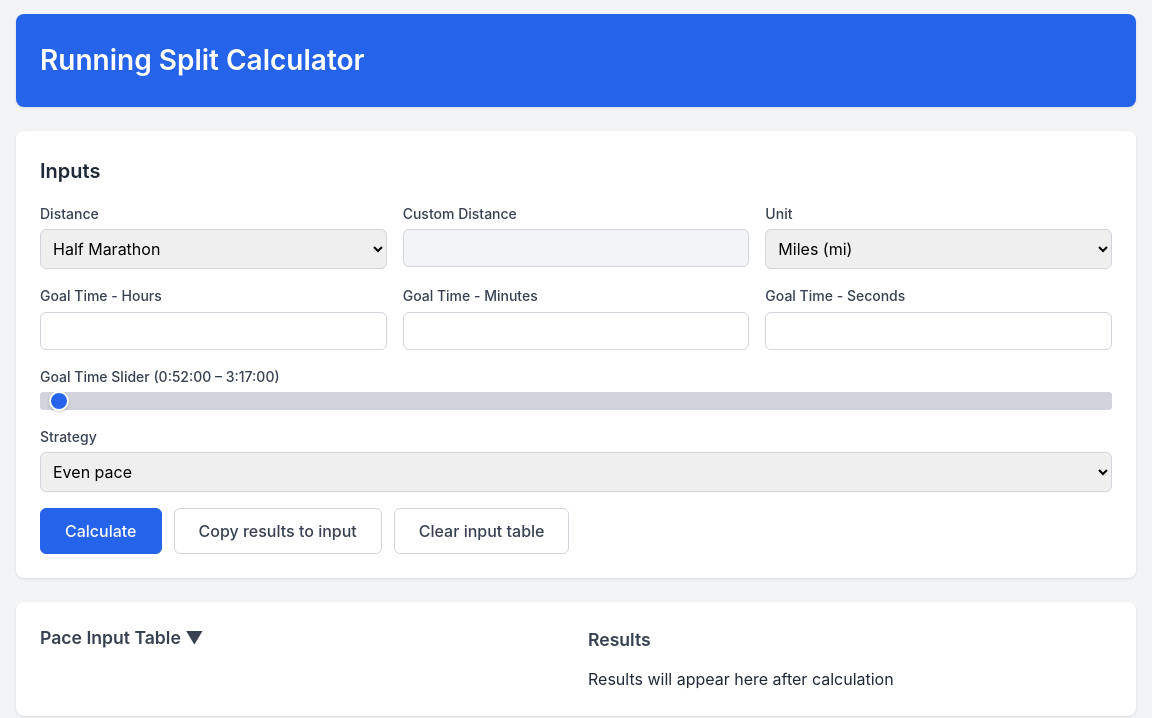
Test: UI Copy and Clear functionality › Copy results to input › should fill only blank inputs with calculated paces
The width and height of the screenshot is (1152, 718).
Select "Kilometers (km)" in the dropdown labelled "Unit" at x=939, y=249, box x1=765 y1=229 x2=1112 y2=269
Select "5K" in the dropdown labelled "Distance" at x=213, y=249, box x1=40 y1=229 x2=387 y2=269
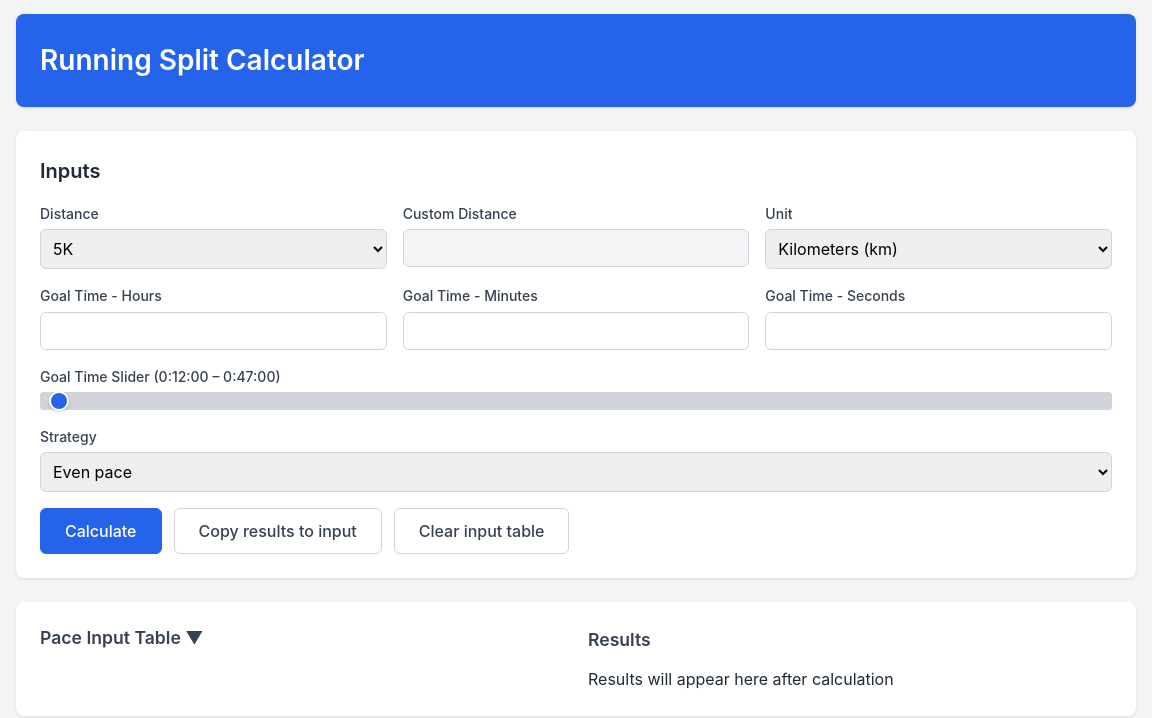
Type "25" into the number field labelled "Goal Time - Minutes" at x=576, y=331, box x1=403 y1=312 x2=749 y2=350
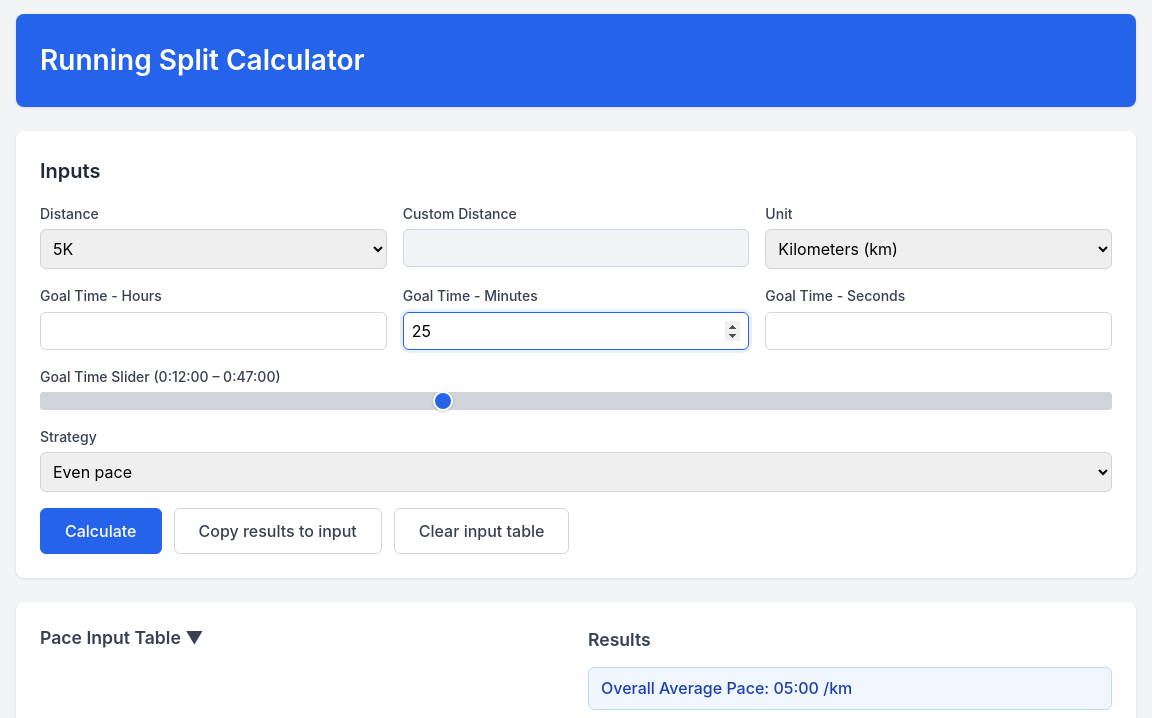
Click the button "Calculate" at x=101, y=531, box x1=40 y1=508 x2=162 y2=554
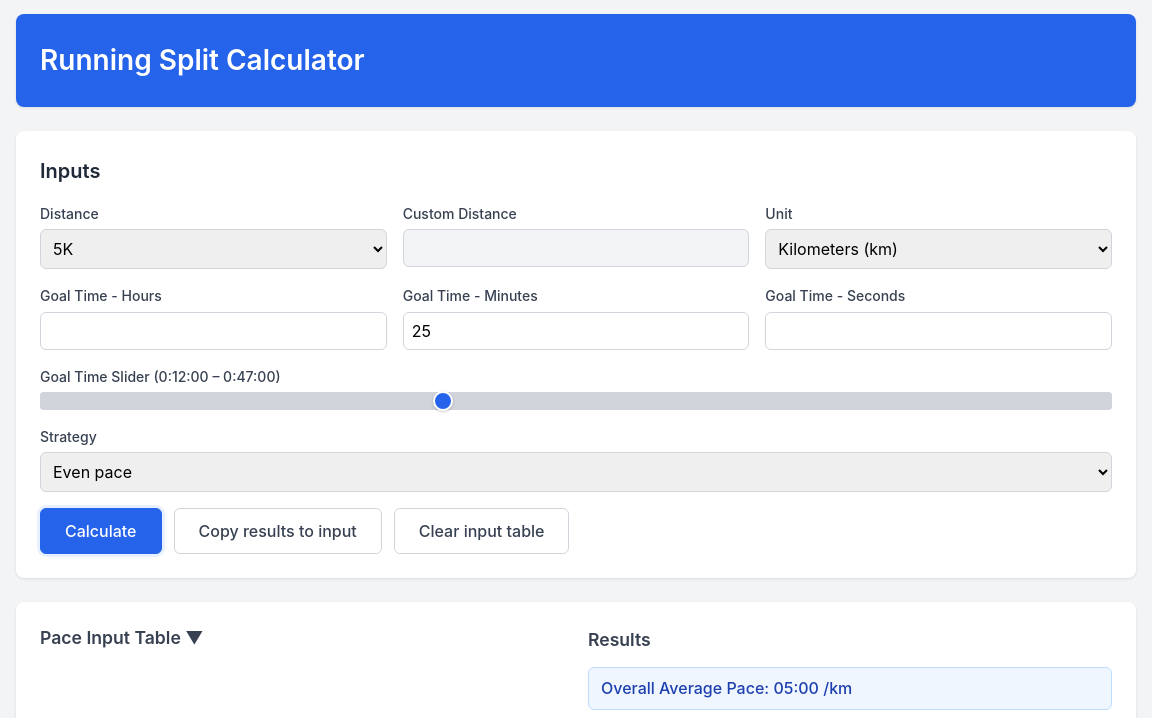
Click the button "Pace Input Table ▼" at x=113, y=638, box x1=40 y1=627 x2=564 y2=660
(page scrolled)
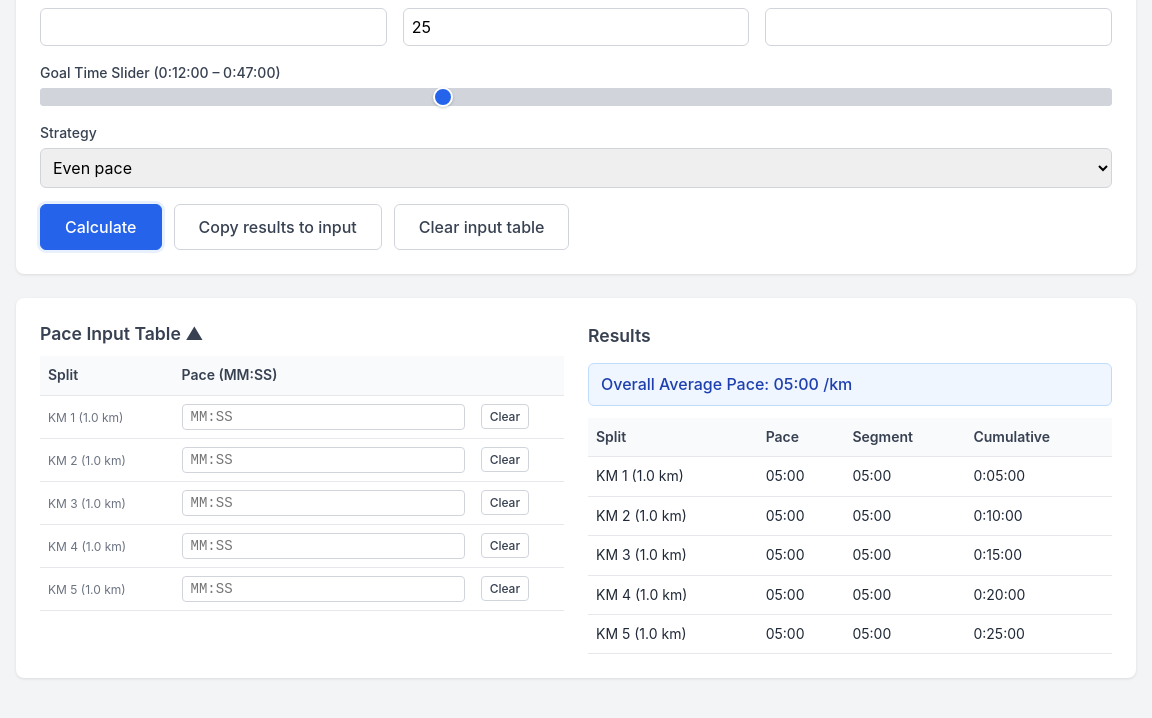
Type "04:30" into the 1st field with placeholder "MM:SS" at x=323, y=417, box x1=182 y1=404 x2=465 y2=430
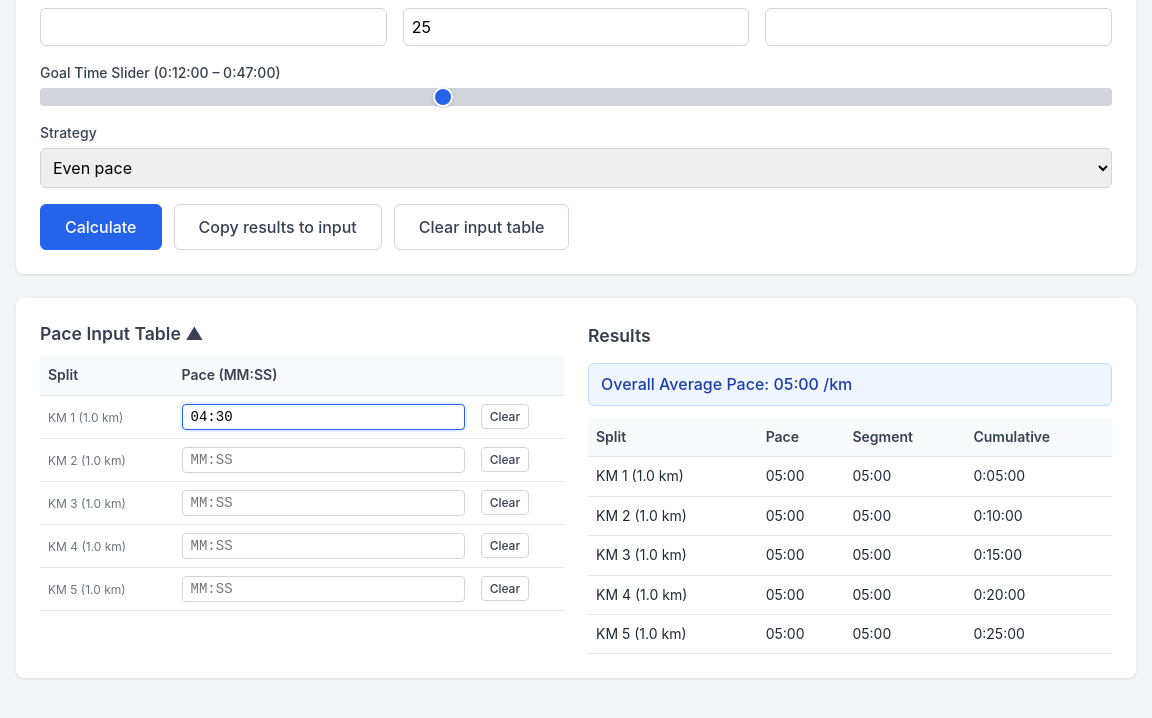
Click the button "Copy results to input" at x=278, y=227, box x1=174 y1=204 x2=382 y2=250
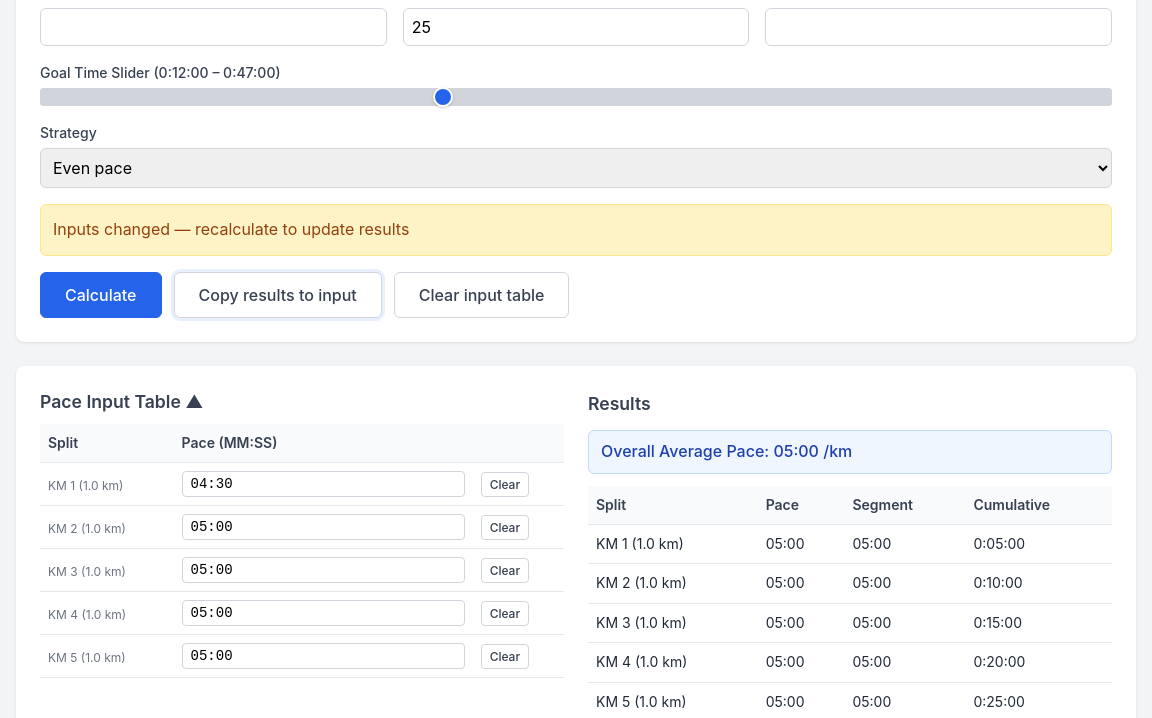
expect the 2nd field holds "05:00": met, box x1=182 y1=514 x2=465 y2=540
expect the 3rd field holds "05:00": met, box x1=182 y1=557 x2=465 y2=583
expect the 4th field holds "05:00": met, box x1=182 y1=600 x2=465 y2=626
